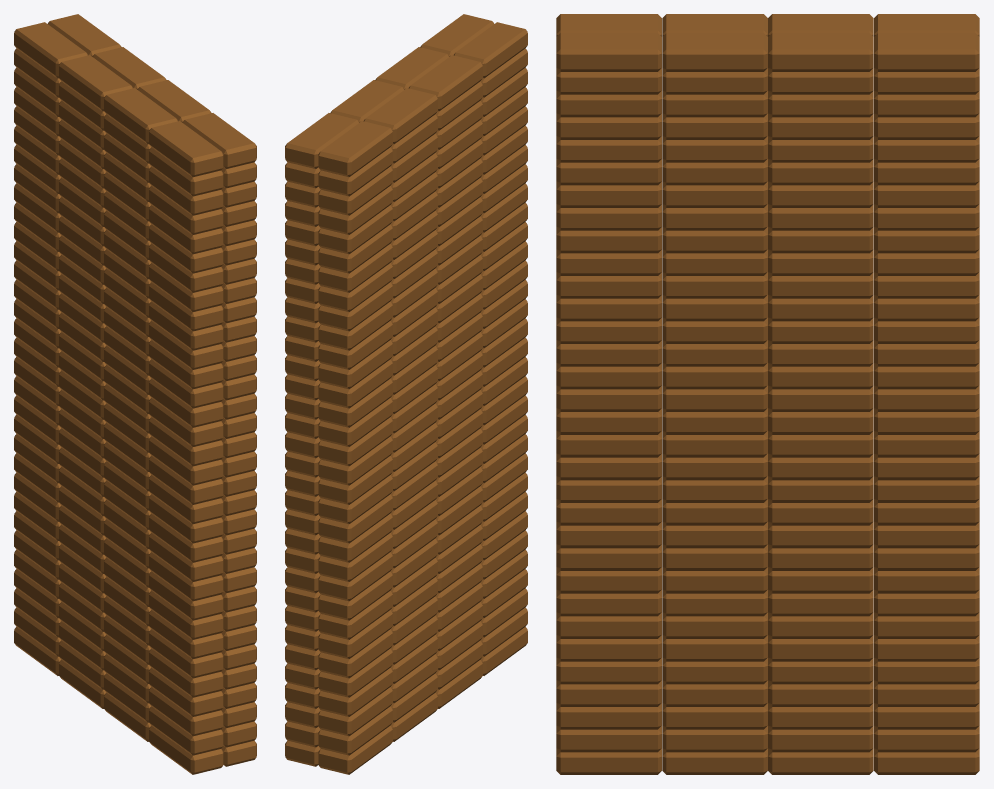
The model's file is stackcube.fbx.
The picture shows the model from 3 angles, left to right: view 1: azimuth 30°, elevation 25°; view 2: azimuth 150°, elevation 25°; view 3: azimuth 270°, elevation 25°; orthographic projection. The views are drawn at different scales.
Parts seen in each view (by area): view 1: stackcube.255, stackcube.223, stackcube.127, stackcube.095, stackcube.191, stackcube.031, stackcube.063, stackcube.159, stackcube.229, stackcube.246, stackcube.254, stackcube.228 (+151 smaller); view 2: stackcube.095, stackcube.127, stackcube.223, stackcube.255, stackcube.031, stackcube.191, stackcube.063, stackcube.159, stackcube.069, stackcube.086, stackcube.094, stackcube.068 (+151 smaller); view 3: stackcube.031, stackcube.063, stackcube.159, stackcube.191, stackcube.045, stackcube.141, stackcube.001, stackcube.004, stackcube.007, stackcube.010, stackcube.013, stackcube.017 (+120 smaller).
Part boxes in pixels (bbox=[...]): stackcube.255: bbox=[149, 121, 223, 177]; stackcube.223: bbox=[104, 88, 178, 144]; stackcube.127: bbox=[59, 55, 133, 111]; stackcube.095: bbox=[14, 22, 87, 78]; stackcube.191: bbox=[182, 113, 256, 168]; stackcube.031: bbox=[48, 14, 121, 56]; stackcube.063: bbox=[92, 47, 166, 89]; stackcube.159: bbox=[137, 80, 211, 122]; stackcube.229: bbox=[149, 629, 223, 678]; stackcube.246: bbox=[149, 301, 223, 350]; stackcube.254: bbox=[149, 147, 223, 196]; stackcube.228: bbox=[149, 648, 223, 697]; stackcube.095: bbox=[318, 121, 392, 177]; stackcube.127: bbox=[363, 88, 437, 144]; stackcube.223: bbox=[408, 55, 482, 111]; stackcube.255: bbox=[454, 22, 527, 78]; stackcube.031: bbox=[285, 113, 359, 168]; stackcube.191: bbox=[420, 14, 493, 56]; stackcube.063: bbox=[330, 80, 404, 122]; stackcube.159: bbox=[375, 47, 449, 89]; stackcube.069: bbox=[318, 629, 392, 678]; stackcube.086: bbox=[318, 301, 392, 350]; stackcube.094: bbox=[318, 147, 392, 196]; stackcube.068: bbox=[318, 648, 392, 697]; stackcube.031: bbox=[874, 33, 979, 71]; stackcube.063: bbox=[768, 33, 873, 71]; stackcube.159: bbox=[662, 33, 767, 71]; stackcube.191: bbox=[556, 33, 661, 71]; stackcube.045: bbox=[768, 453, 873, 480]; stackcube.141: bbox=[662, 453, 767, 480]; stackcube.001: bbox=[874, 726, 979, 752]; stackcube.004: bbox=[874, 658, 979, 684]; stackcube.007: bbox=[874, 590, 979, 616]; stackcube.010: bbox=[874, 522, 979, 548]; stackcube.013: bbox=[874, 454, 979, 480]; stackcube.017: bbox=[874, 363, 979, 389].
Bounding box in the file's own units: 28.94 × 257 × 136.
